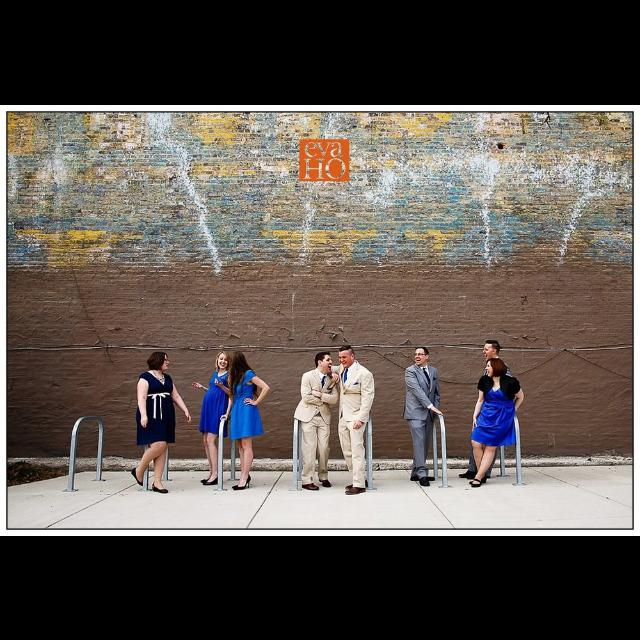head: (482, 338, 502, 362), (314, 352, 334, 374), (485, 357, 507, 377), (338, 346, 356, 368), (152, 352, 170, 371), (230, 350, 246, 370), (414, 346, 430, 366), (216, 349, 232, 368)
person: (130, 350, 193, 494), (455, 338, 515, 480), (324, 344, 376, 496), (468, 356, 524, 489), (218, 349, 270, 491), (292, 349, 342, 491), (193, 348, 239, 486), (404, 344, 444, 488)
